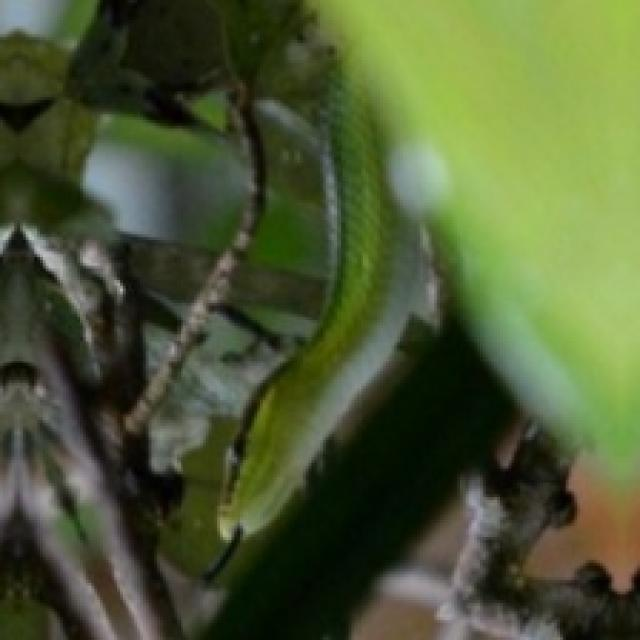red-tailed green ratsnake: (209, 77, 420, 571)
